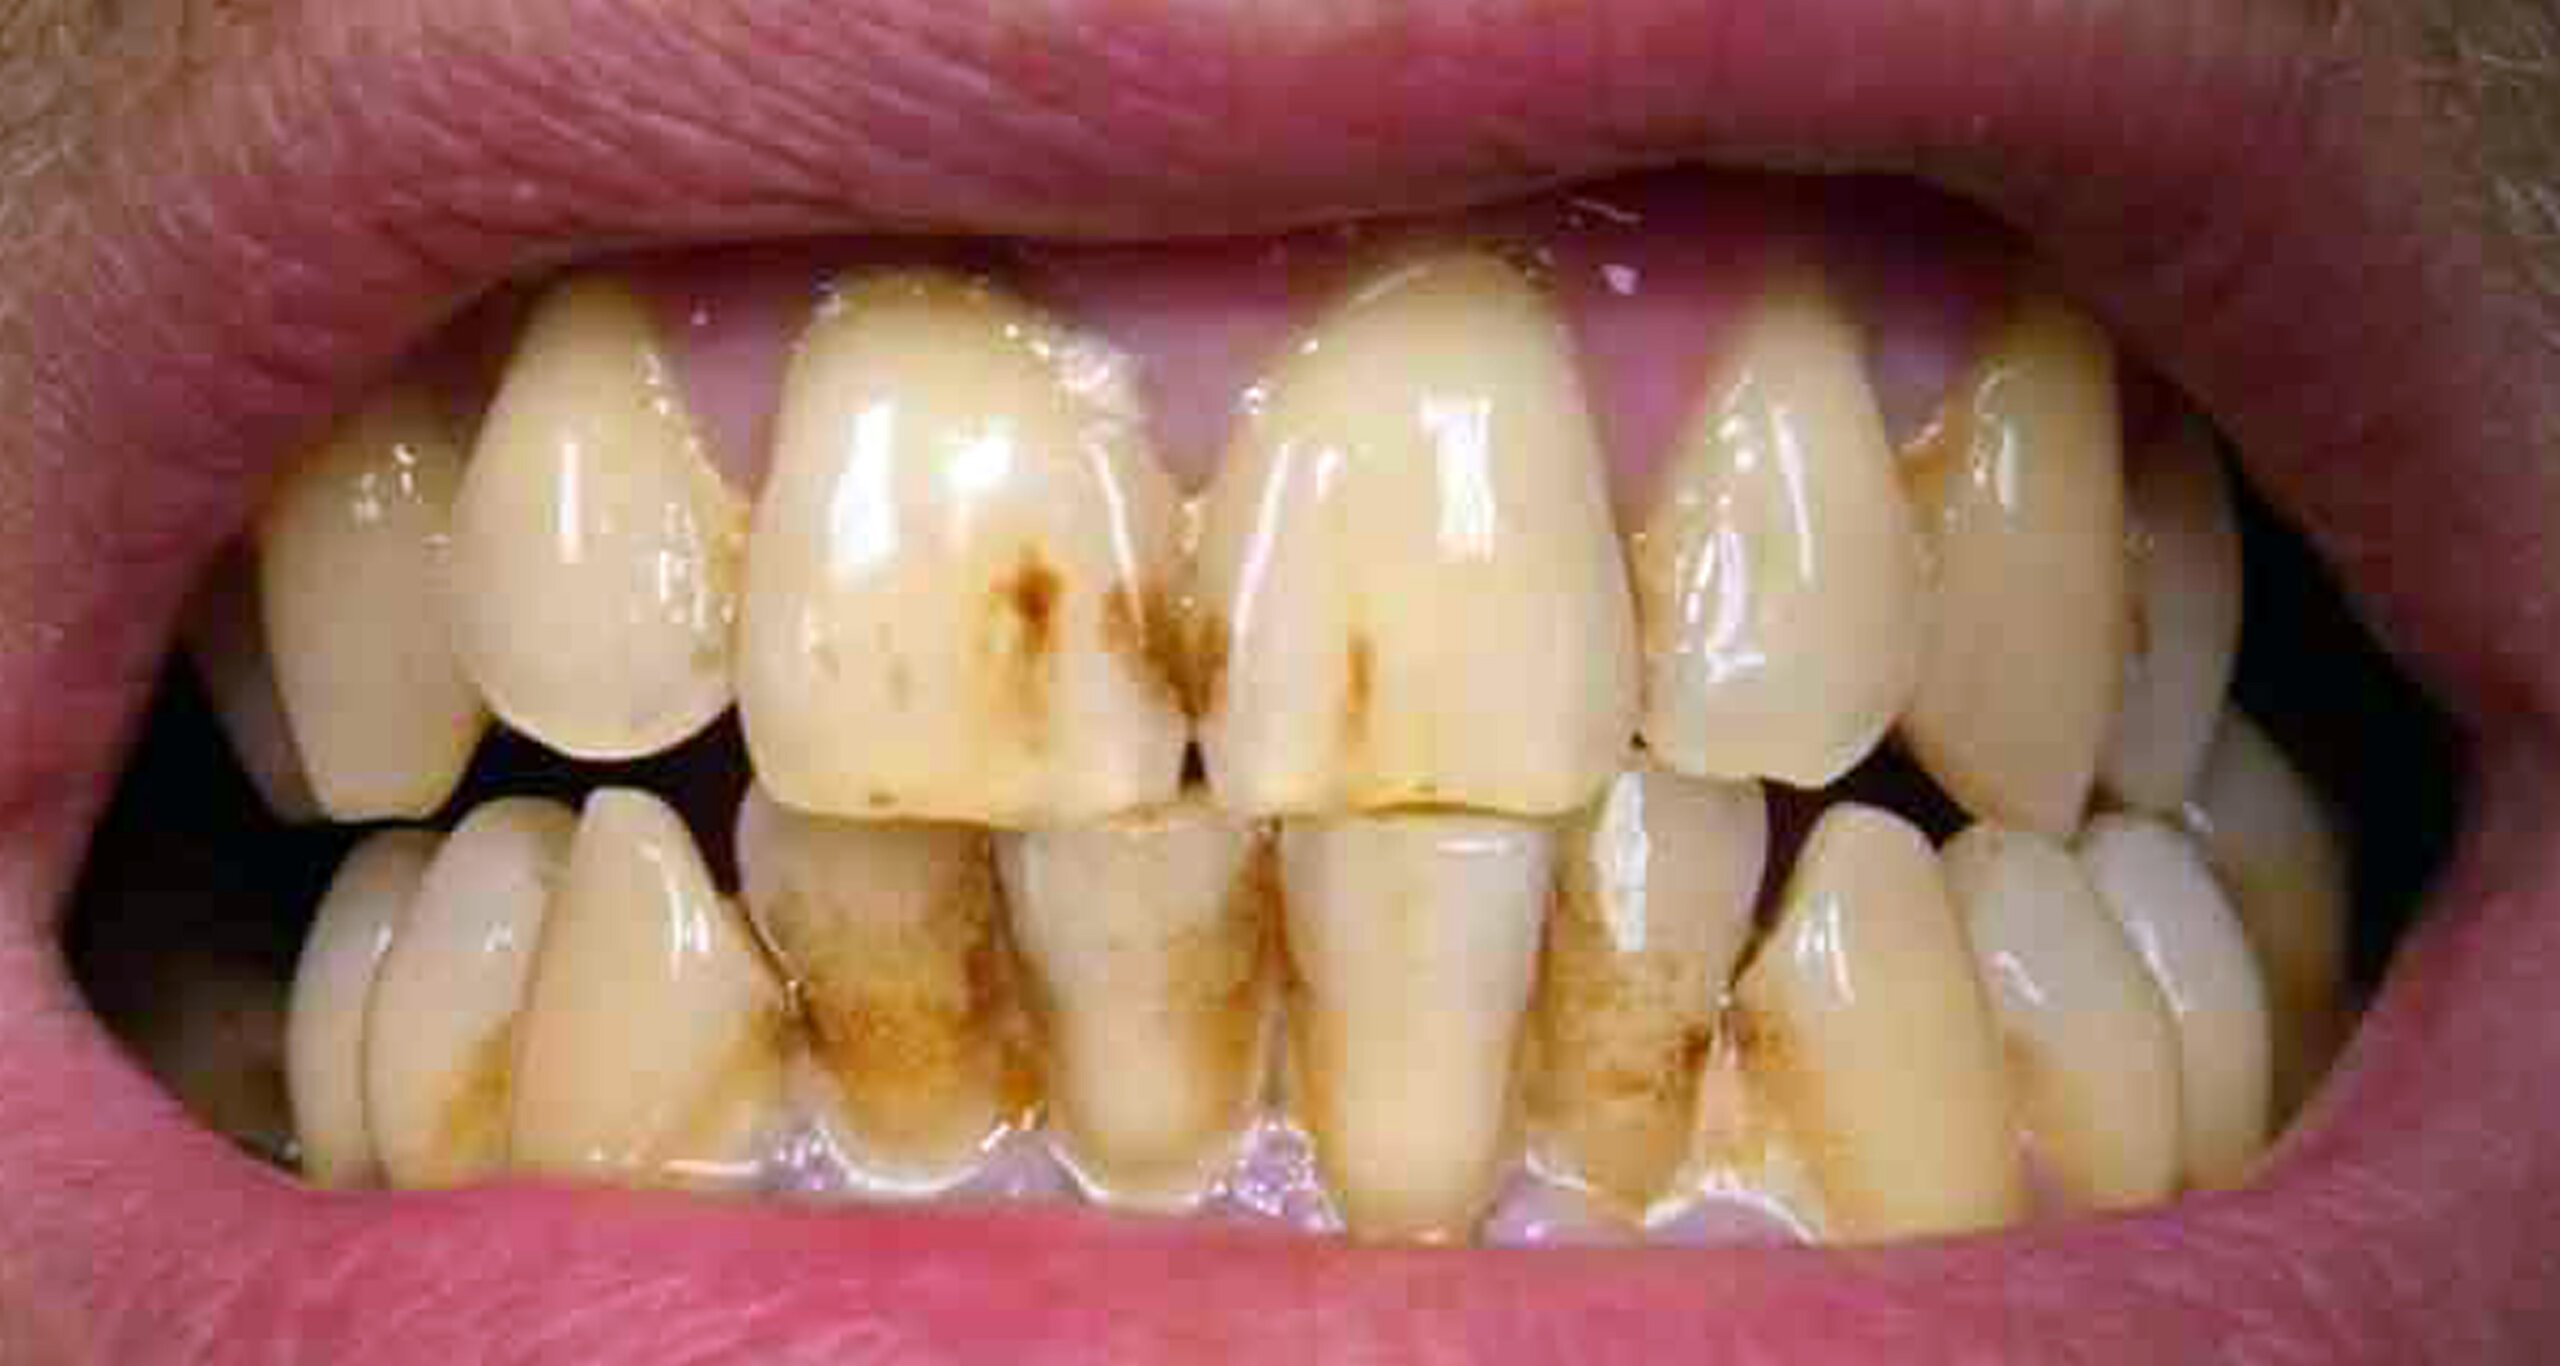LL1BC_healthy: (1978, 811, 2193, 1214)
LLCI_decay: (1266, 811, 1534, 1237)
LLC_decay: (1729, 806, 2032, 1259)
LLLI_decay: (1539, 785, 1747, 1249)
LR1BC_healthy: (372, 834, 549, 1198)
LRCI_decay: (1024, 811, 1278, 1207)
LRC_decay: (550, 799, 774, 1171)
LRLI_decay: (753, 824, 1028, 1207)
ULCI_decay: (1209, 252, 1637, 812)
ULC_healthy: (1925, 296, 2138, 843)
ULLI_healthy: (1639, 271, 1939, 785)
URCI_decay: (748, 271, 1204, 829)
URC_healthy: (268, 443, 481, 833)
URLI_healthy: (459, 296, 742, 752)
